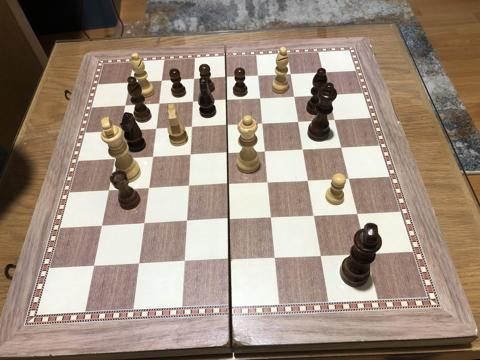xcorner: (155, 74, 168, 87), (152, 97, 165, 110), (221, 178, 234, 191), (181, 180, 194, 193), (141, 182, 154, 195), (86, 260, 99, 273), (317, 66, 330, 78), (285, 67, 297, 80), (252, 69, 265, 81), (187, 73, 200, 85), (323, 88, 335, 101), (288, 90, 301, 102), (254, 92, 267, 104), (329, 113, 341, 126), (292, 115, 305, 127), (256, 117, 269, 129), (113, 125, 126, 137), (145, 151, 158, 163), (343, 172, 355, 185), (302, 174, 314, 187), (262, 176, 274, 189), (102, 184, 114, 197), (179, 216, 192, 228), (222, 254, 235, 266), (220, 71, 232, 83), (123, 76, 135, 88), (220, 94, 232, 106), (186, 96, 198, 108), (119, 99, 131, 111), (221, 119, 233, 131), (185, 121, 197, 133), (149, 123, 161, 135), (335, 141, 347, 153), (297, 143, 309, 155), (259, 145, 271, 157), (221, 147, 233, 159), (183, 149, 195, 161), (108, 153, 120, 165), (351, 208, 363, 220), (308, 210, 320, 222), (265, 212, 277, 224), (222, 214, 234, 226), (137, 218, 149, 230), (95, 220, 107, 232), (360, 248, 372, 260), (314, 250, 326, 262), (268, 252, 280, 264), (177, 256, 189, 268), (132, 258, 144, 270)
